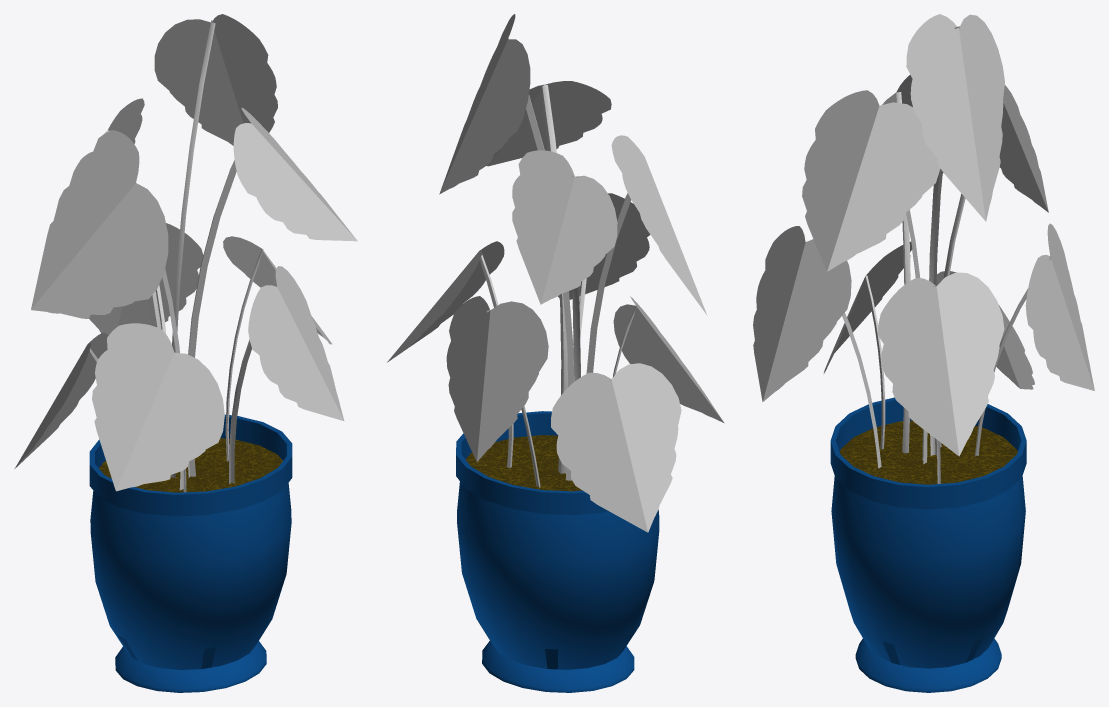
Rendered from plantaH.obj.
The picture shows the model from 3 angles, left to right: view 1: azimuth 30°, elevation 25°; view 2: azimuth 150°, elevation 25°; view 3: azimuth 270°, elevation 25°; orthographic projection. The views are drawn at different scales.
Visible parts, largest first — view 1: PlantaH:PlantaH1:H15; view 2: PlantaH:PlantaH1:H15; view 3: PlantaH:PlantaH1:H15.
Boxes of the visible parts, x1,y1,x2,y2 form: PlantaH:PlantaH1:H15: [14, 14, 357, 692]; PlantaH:PlantaH1:H15: [387, 14, 724, 692]; PlantaH:PlantaH1:H15: [753, 14, 1094, 692].
Bounding box in the file's own units: 0.6923 × 1.35 × 0.6327.
